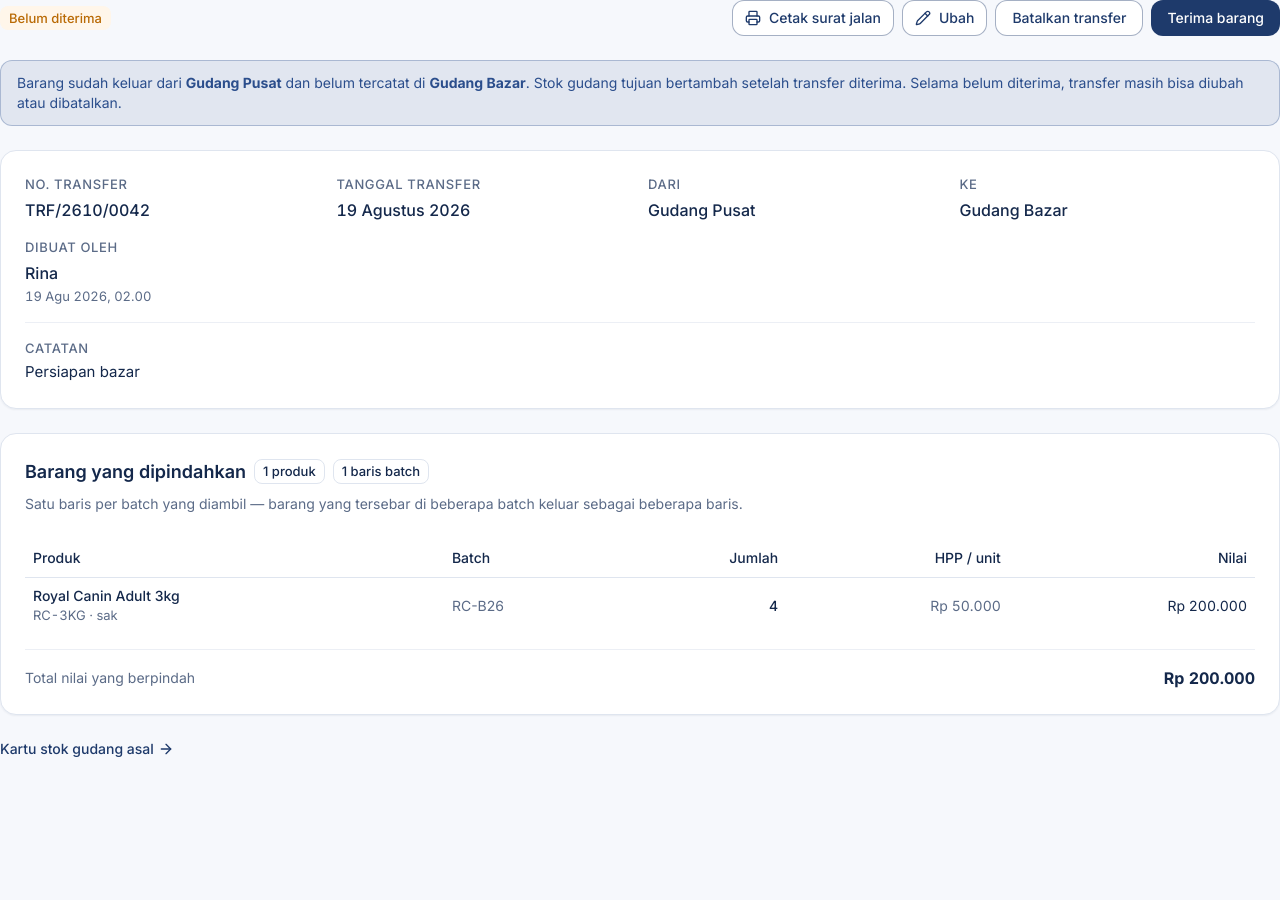
a transfer that is still on the road › asks before receiving, then shows the received document
Click the button "Terima barang".
click(1216, 18)  # box [1151,0,1279,36]
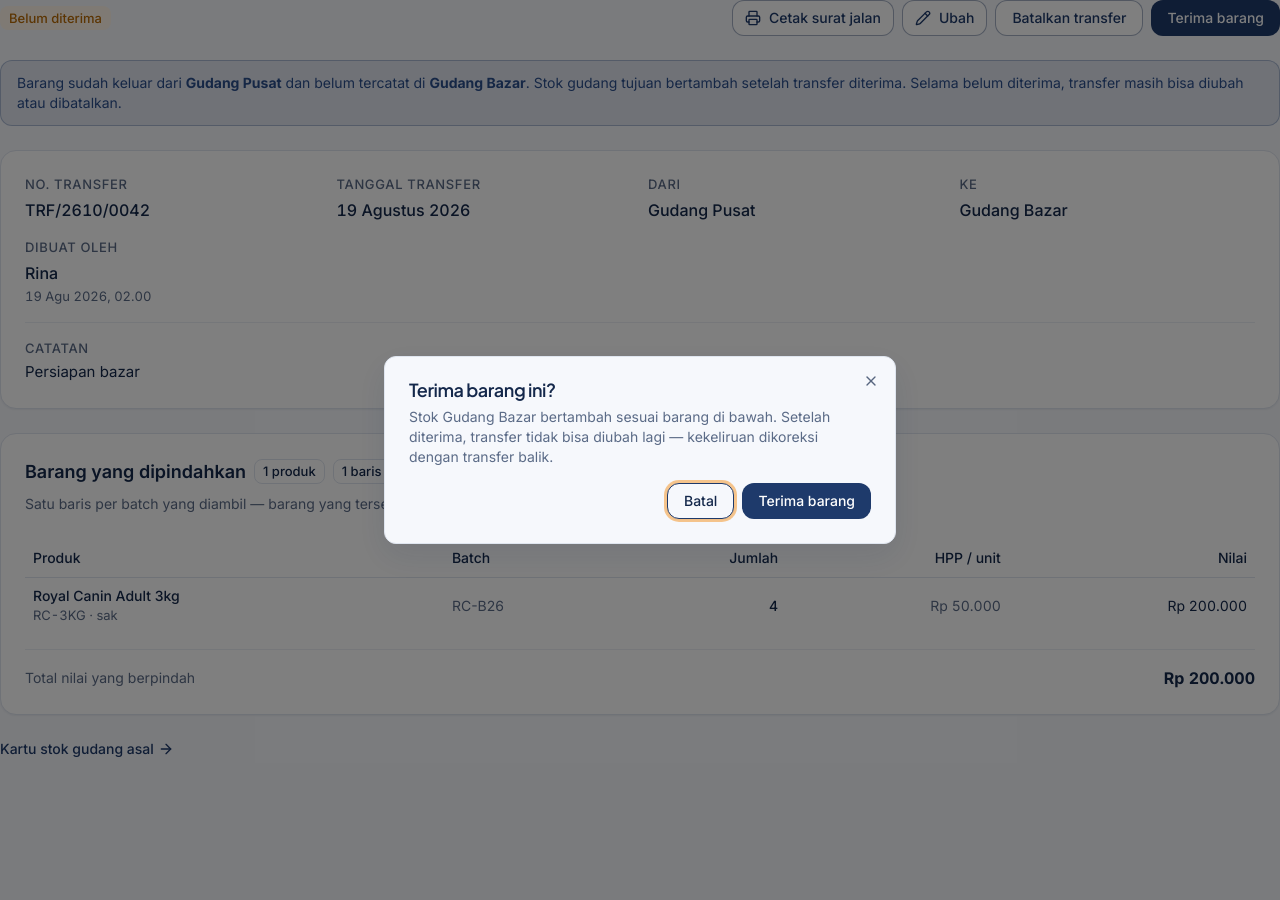
Now the text "tidak bisa diubah lagi" is shown, box [409,408,830,465]
Click the button "Terima barang".
click(807, 501)  # box [742,483,871,519]
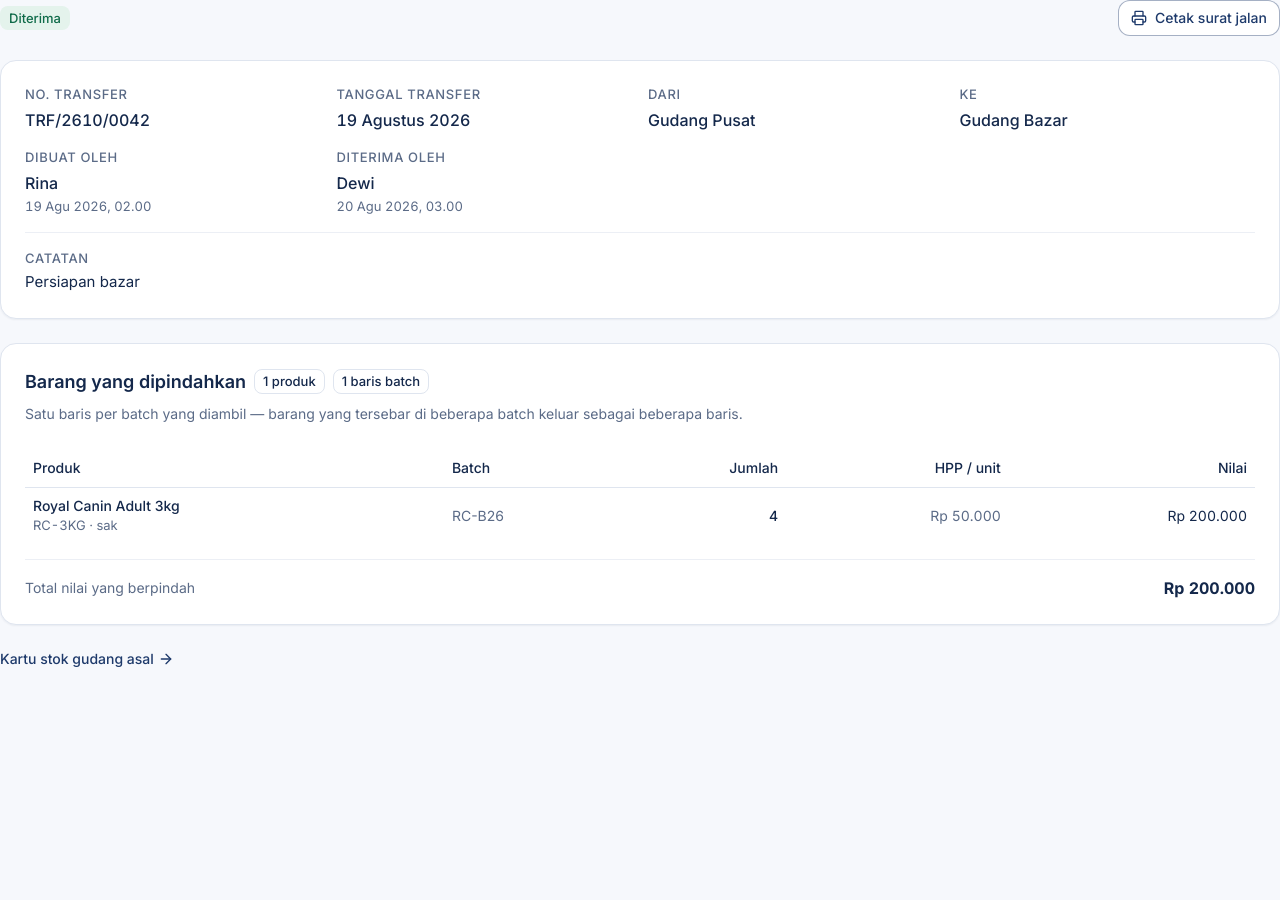
Expected: the text "Diterima" is shown, [0,6,70,30]
Now the link "Ubah" is gone
Now the button "Terima barang" is gone
